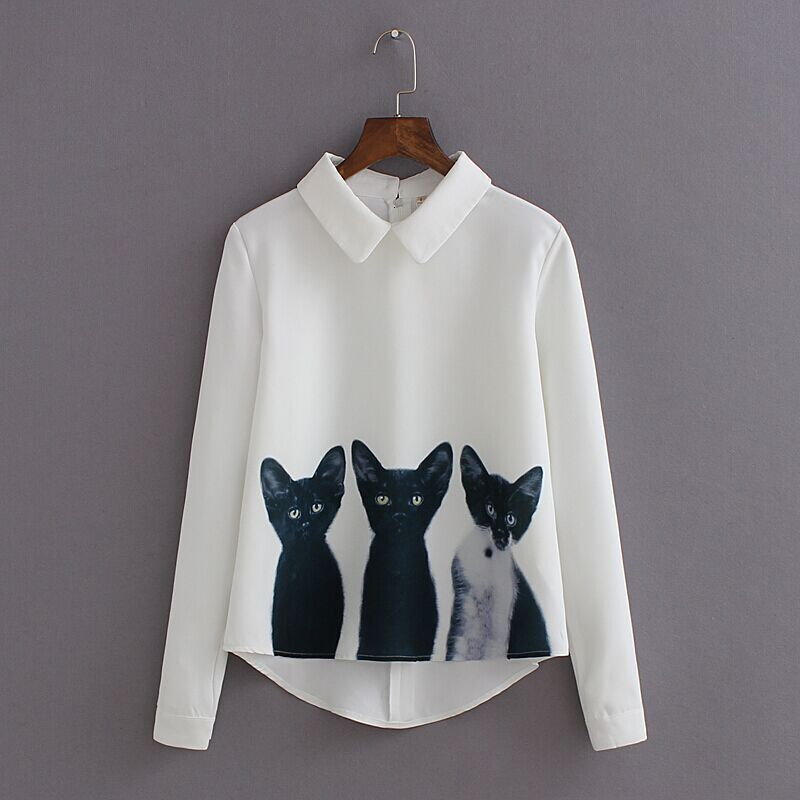cat: (352, 431, 453, 546), (459, 433, 550, 558), (253, 438, 349, 543)
